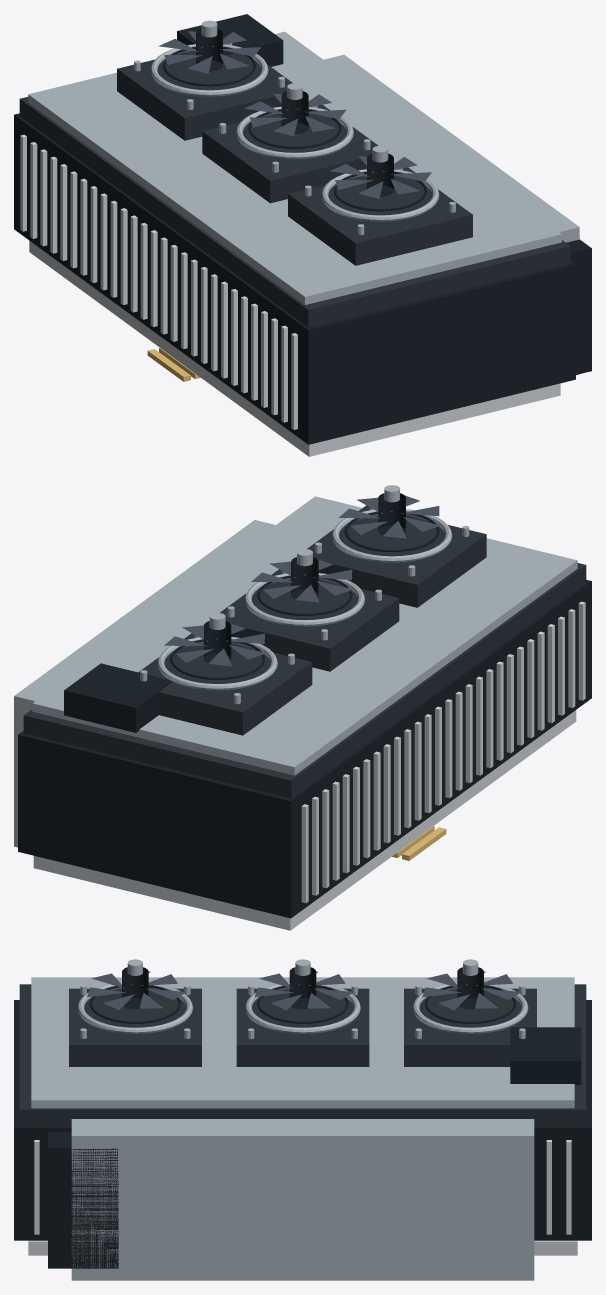
Rendered from rx7900xtx.glb.
3 views of the same model, one above another, from view 1: azimuth 30°, elevation 25°; view 2: azimuth 150°, elevation 25°; view 3: azimuth 270°, elevation 25° (orthographic). The views are drawn at different scales.
Visible parts, largest first — view 1: rx7900xtx; view 2: rx7900xtx; view 3: rx7900xtx.
Part boxes in pixels (x1,y1,x2,y2): rx7900xtx: (14,14,591,456); rx7900xtx: (14,485,591,930); rx7900xtx: (14,959,591,1280).
Bounding box in the file's own units: 0.7797 × 0.6235 × 1.3.
